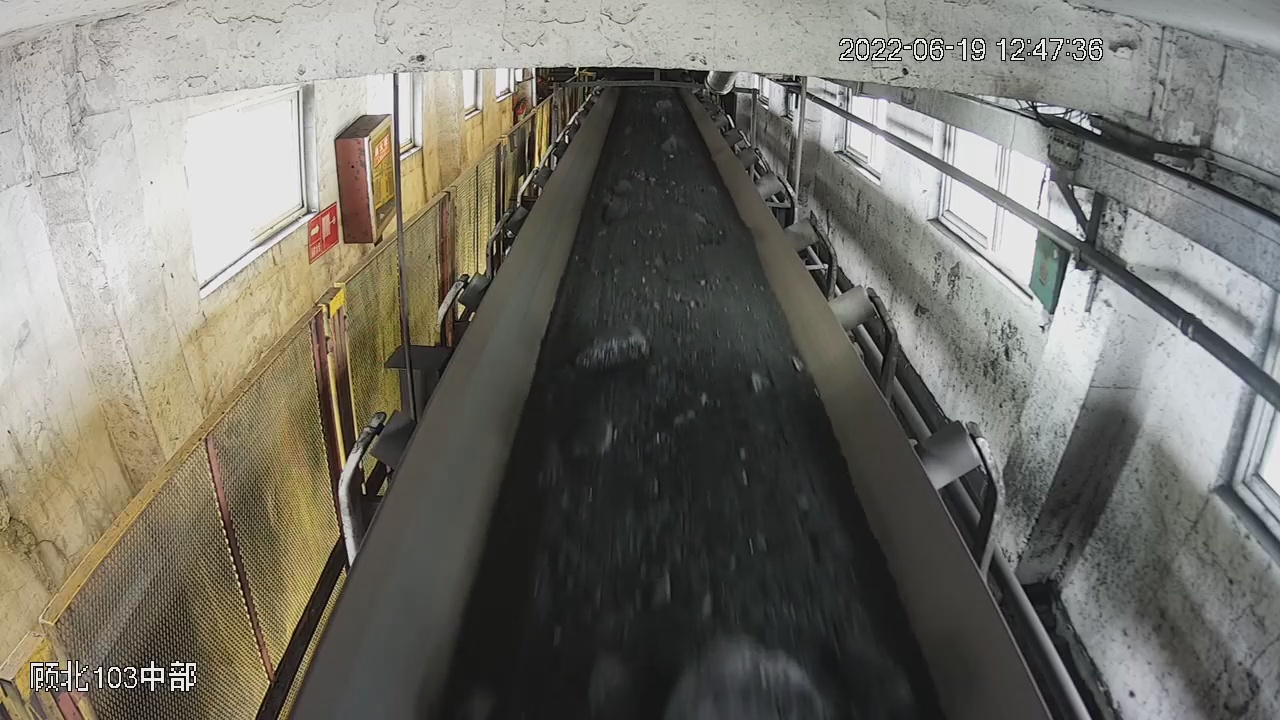gangue: (668, 633, 829, 720), (576, 327, 649, 371), (594, 655, 631, 710), (574, 414, 613, 455), (603, 192, 629, 221), (751, 368, 768, 392), (662, 134, 676, 155), (655, 100, 672, 112)
